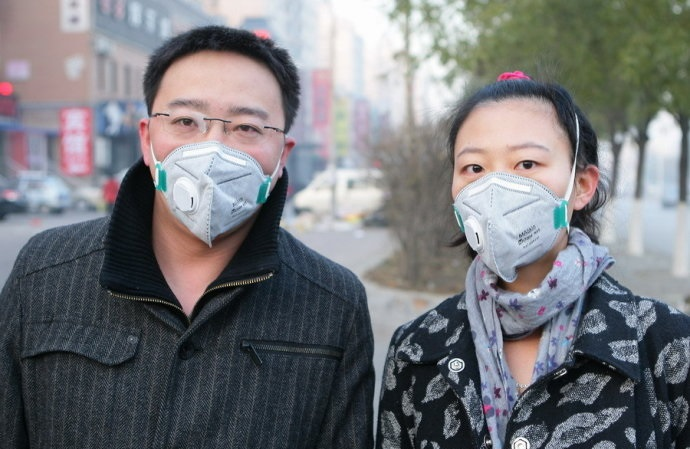face_mask: (148, 59, 285, 235), (451, 107, 574, 261)
